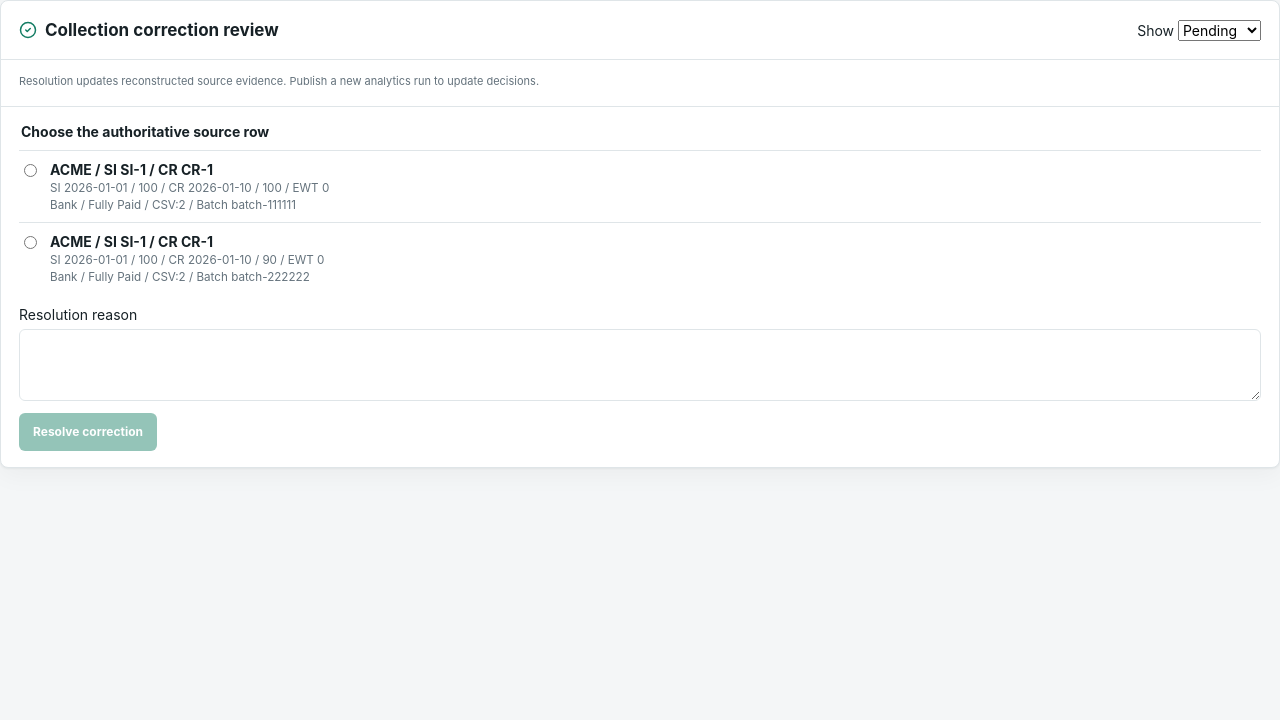
Scenario: administrator chooses one raw row and gives a reason before resolution
expect the text "SI 2026-01-01 / 100 / CR 2026-01-10 / 90 / EWT 0" is shown: met, box [50, 253, 324, 267]
expect the button "Resolve correction" is disabled: met, box [19, 413, 157, 451]
Click the 2nd radio button.
click(30, 242)  # box [24, 236, 37, 249]
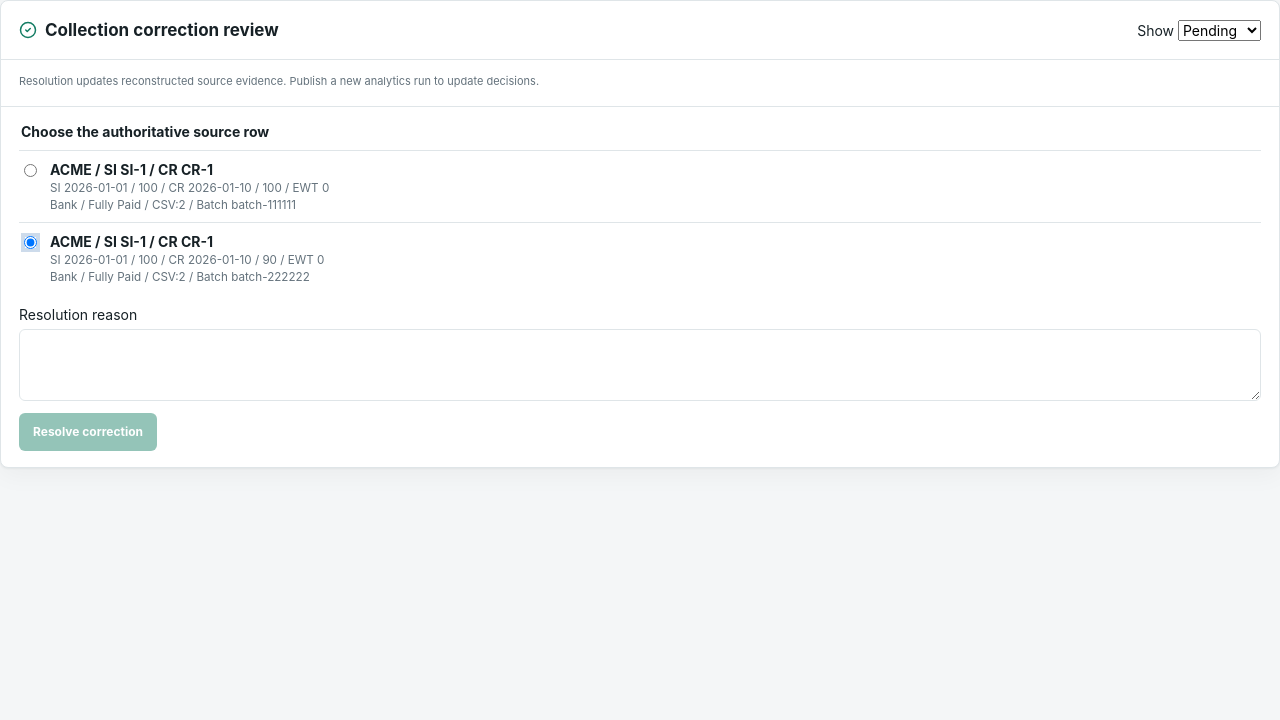
expect the button "Resolve correction" is disabled: met, box [19, 413, 157, 451]
Type "Verified against collection receipt." into the text box labelled "Resolution reason".
click(640, 365); type("Verified against collection receipt.")  # box [19, 329, 1261, 401]
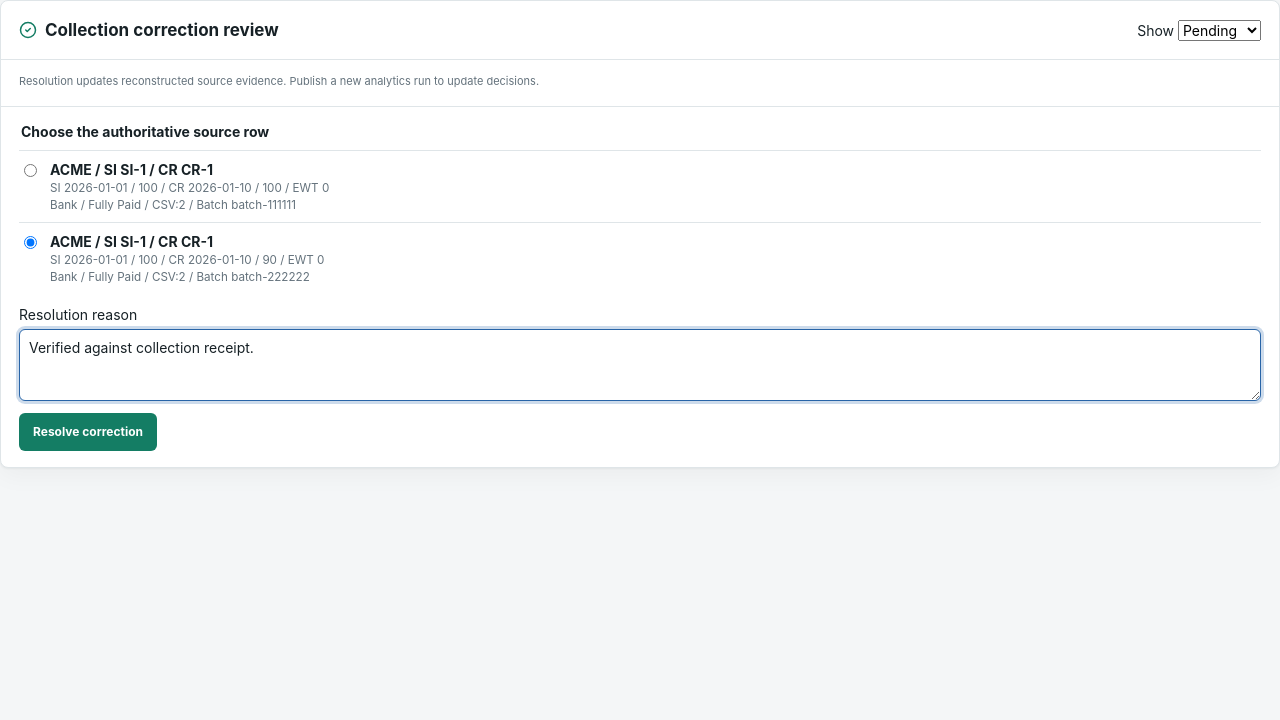
Click the button "Resolve correction".
click(88, 432)  # box [19, 413, 157, 451]
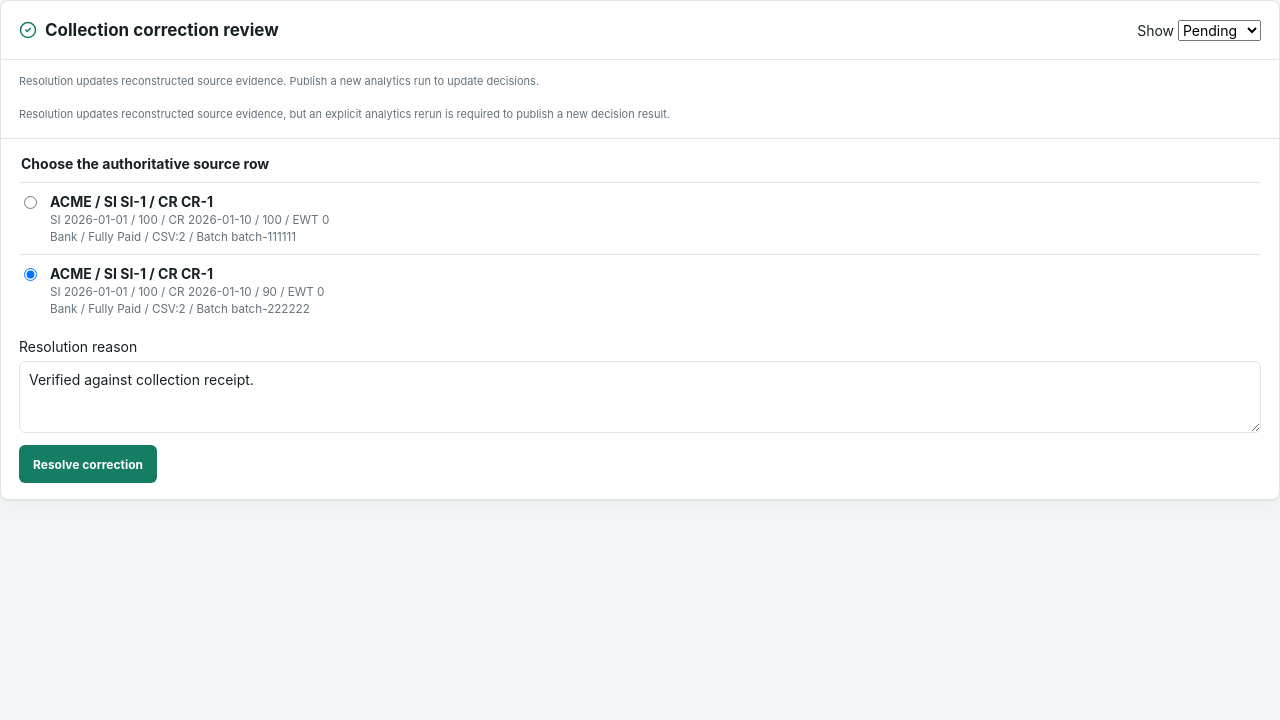
expect the text "explicit analytics rerun is required" is shown: met, box [19, 107, 670, 121]
